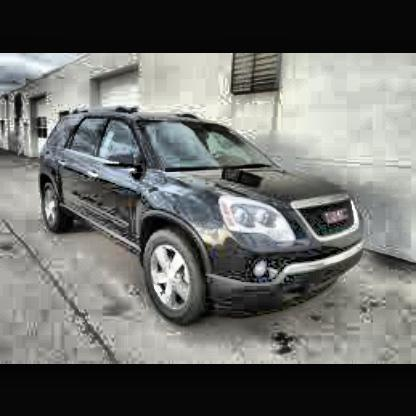GMC Acadia SUV 2012: (37, 104, 371, 332)
